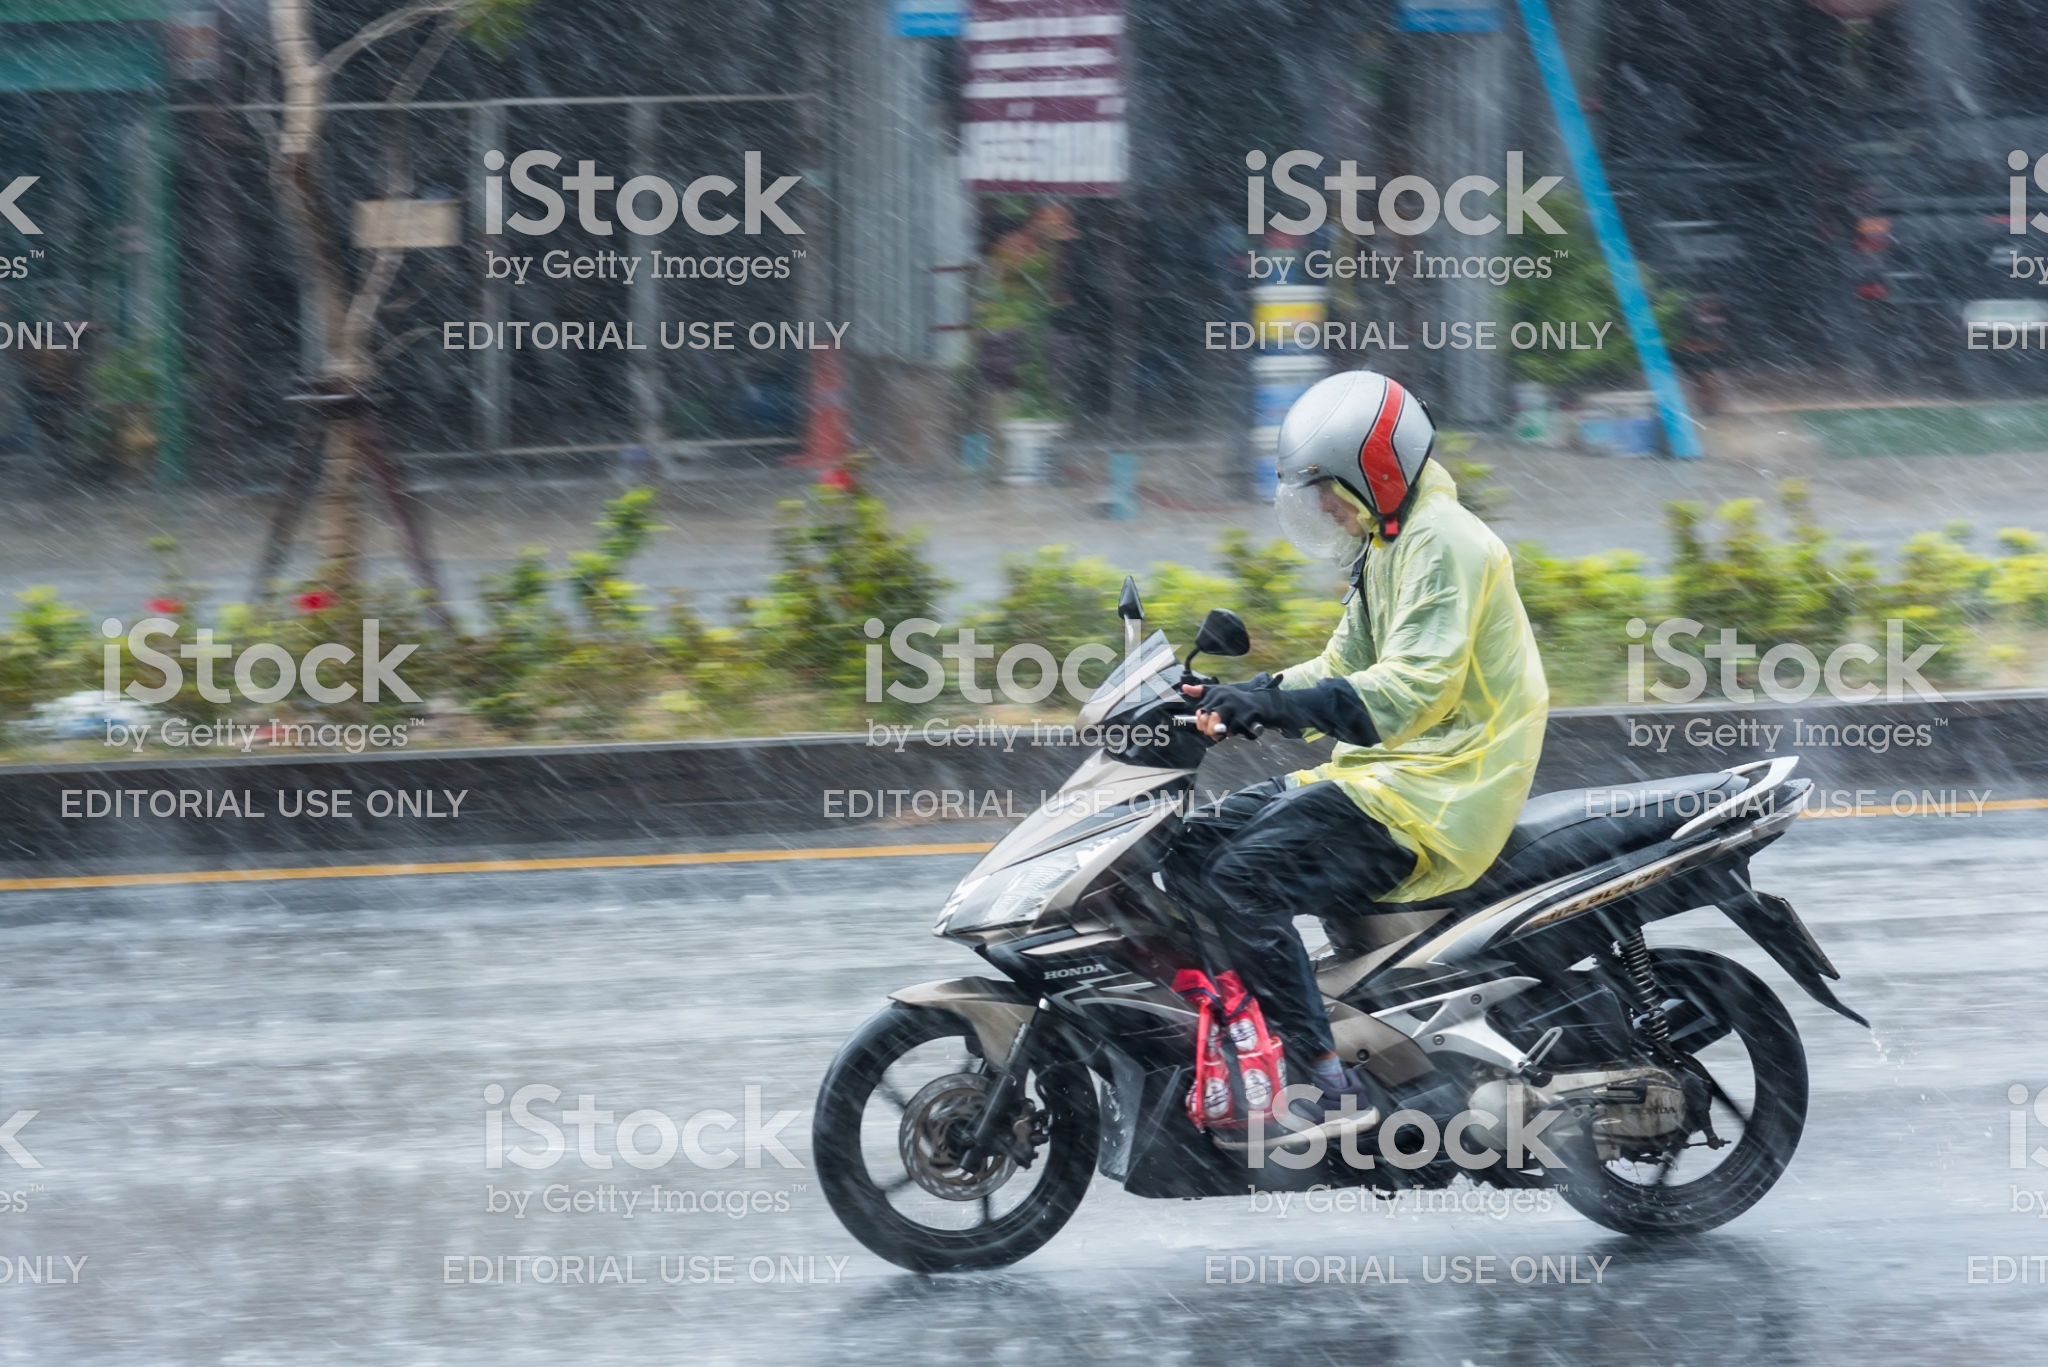helmet: (1247, 374, 1456, 542)
